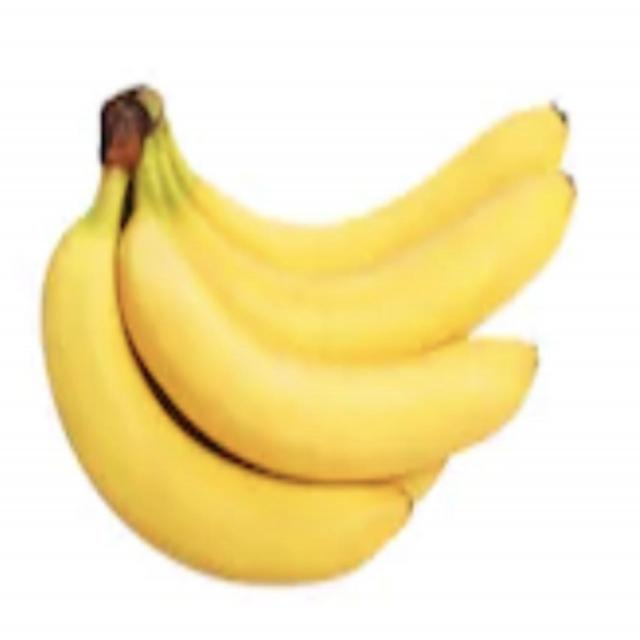banana: (19, 146, 468, 608), (105, 119, 559, 496), (160, 128, 624, 361)
